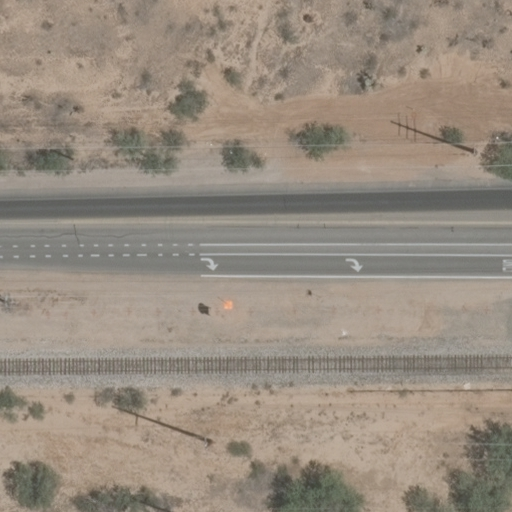DT: (115, 403, 211, 445), (389, 120, 477, 154)
